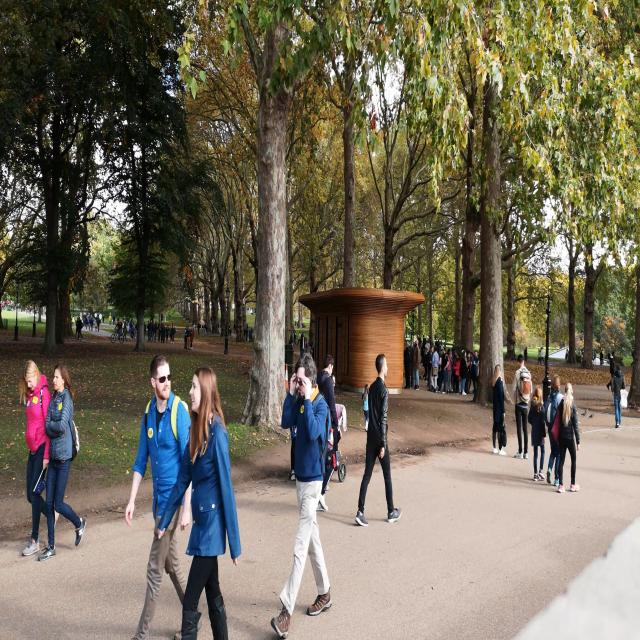adult: (158, 363, 244, 640), (125, 355, 189, 640), (271, 352, 332, 640), (40, 363, 82, 560), (17, 357, 55, 562), (353, 350, 396, 526), (318, 355, 338, 491), (559, 383, 579, 493), (546, 374, 564, 485), (514, 355, 532, 458), (528, 385, 546, 480), (492, 364, 505, 456), (612, 363, 625, 428)
